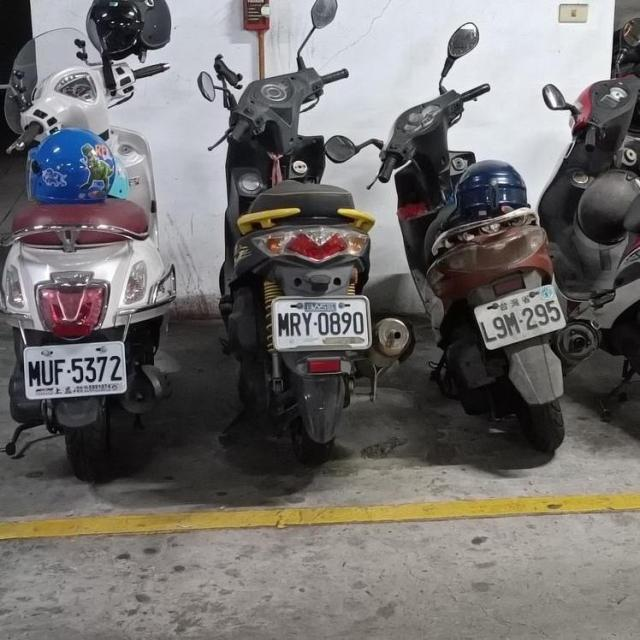W: (468, 276, 570, 352), (20, 337, 129, 401), (270, 291, 372, 352)
